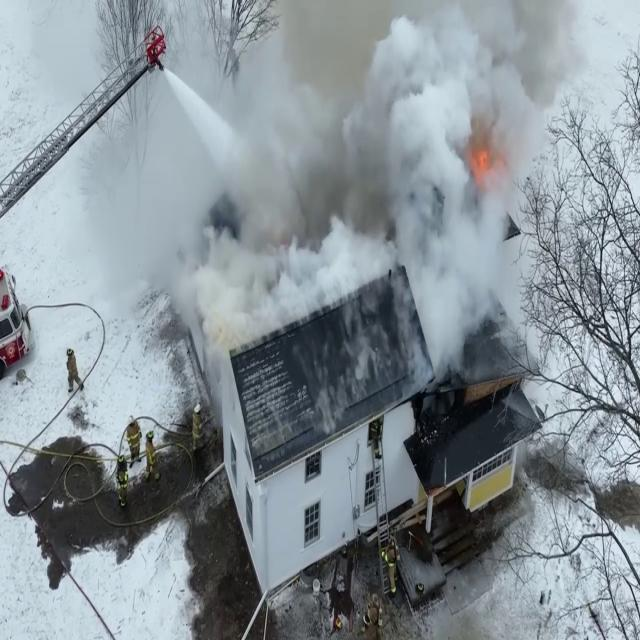Smoke: (42, 0, 564, 374)
